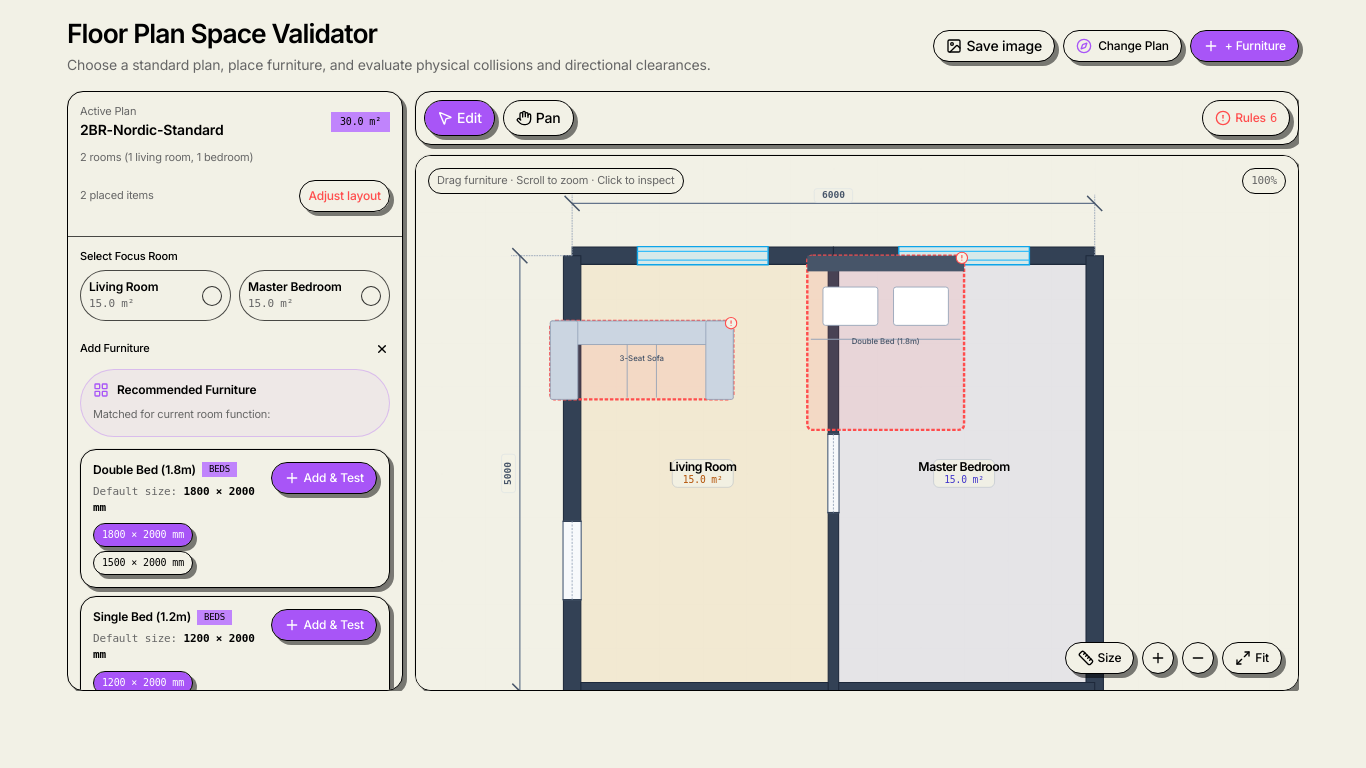
FloorPlanShell Integration (Streamlined MVP Architecture) › browses and selects standard plan from on-demand selector dialog, updating canvas and summary
Note: Open on-demand selector
Click the button with test id "open-plan-selector-btn" at (1122,46), box [1063,30,1182,62]
(page scrolled)
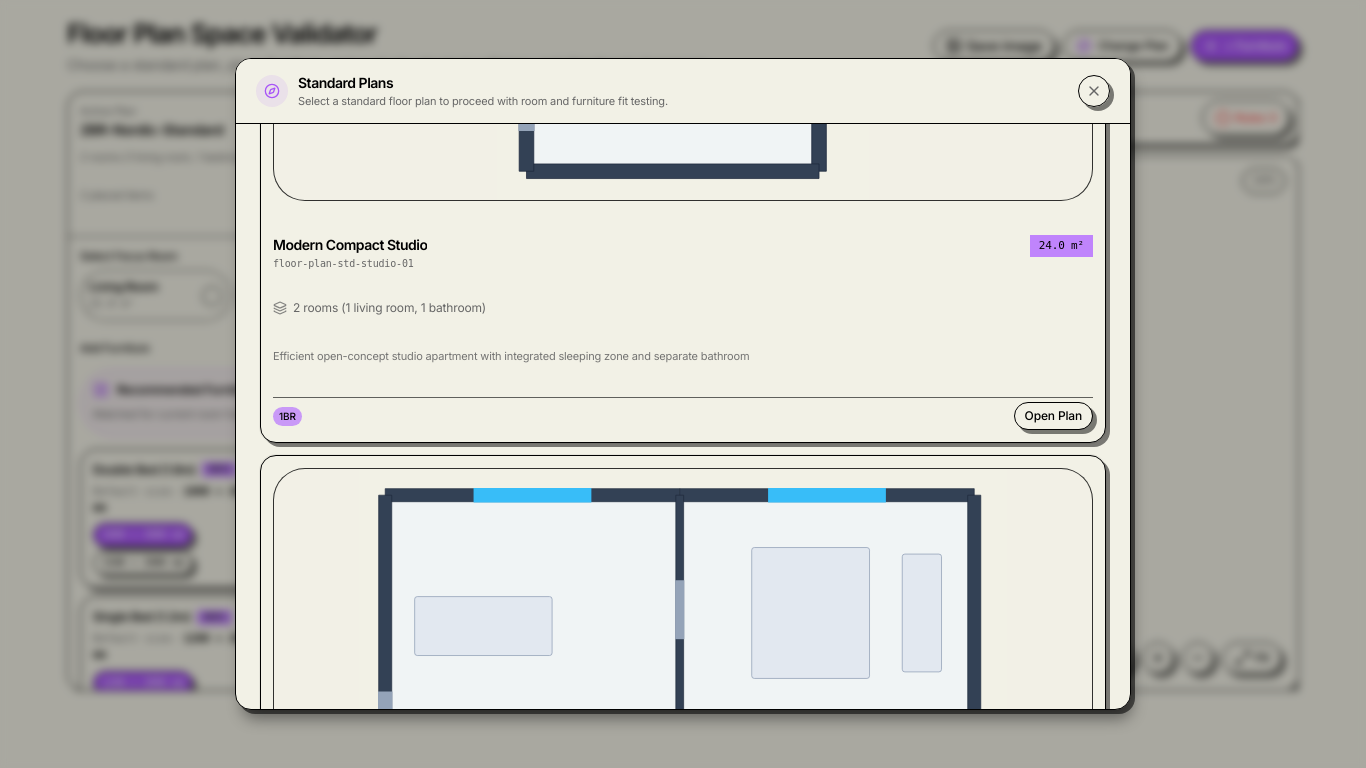
Expected: the dialog with test id "floor-plan-selector-dialog" is shown, [235,58,1131,710]
Expected: the heading with test id "plan-name-floor-plan-std-studio-01" reads "Modern Compact Studio", [273,236,428,253]
Note: Select Studio plan
Click the button with test id "open-plan-btn-floor-plan-std-studio-01" at (1053,416), box [1014,402,1093,430]
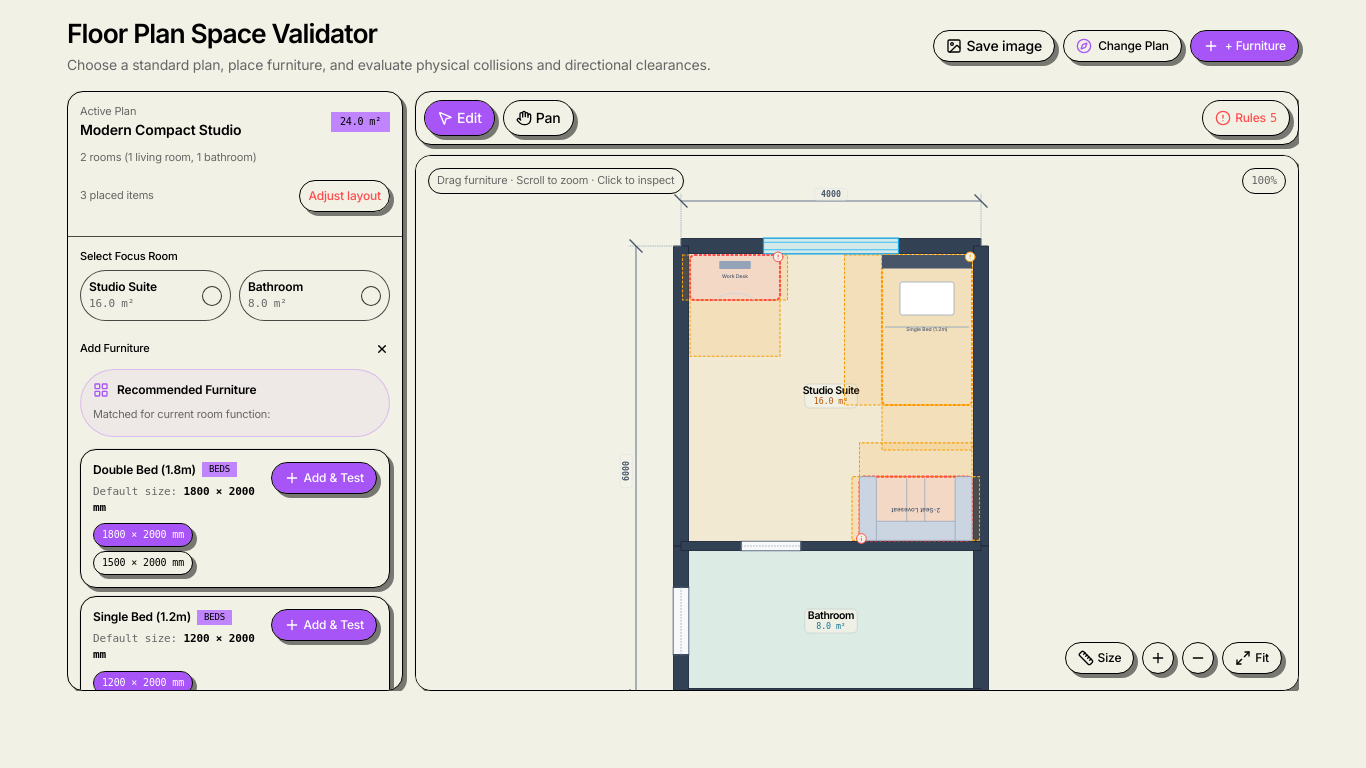
Expected: the element with test id "floor-plan-room-sr1" is shown, [803,384,859,406]
Expected: the dialog with test id "floor-plan-selector-dialog" is gone
